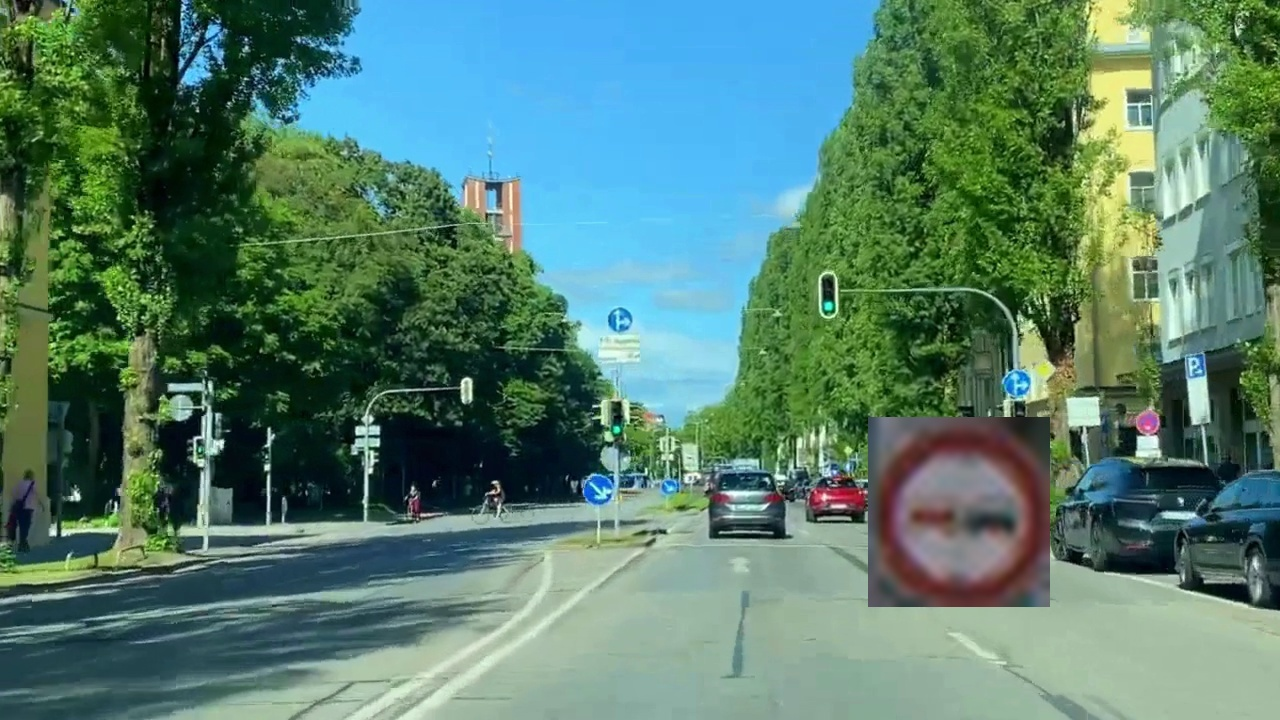No passing: (868, 417, 1050, 607)
